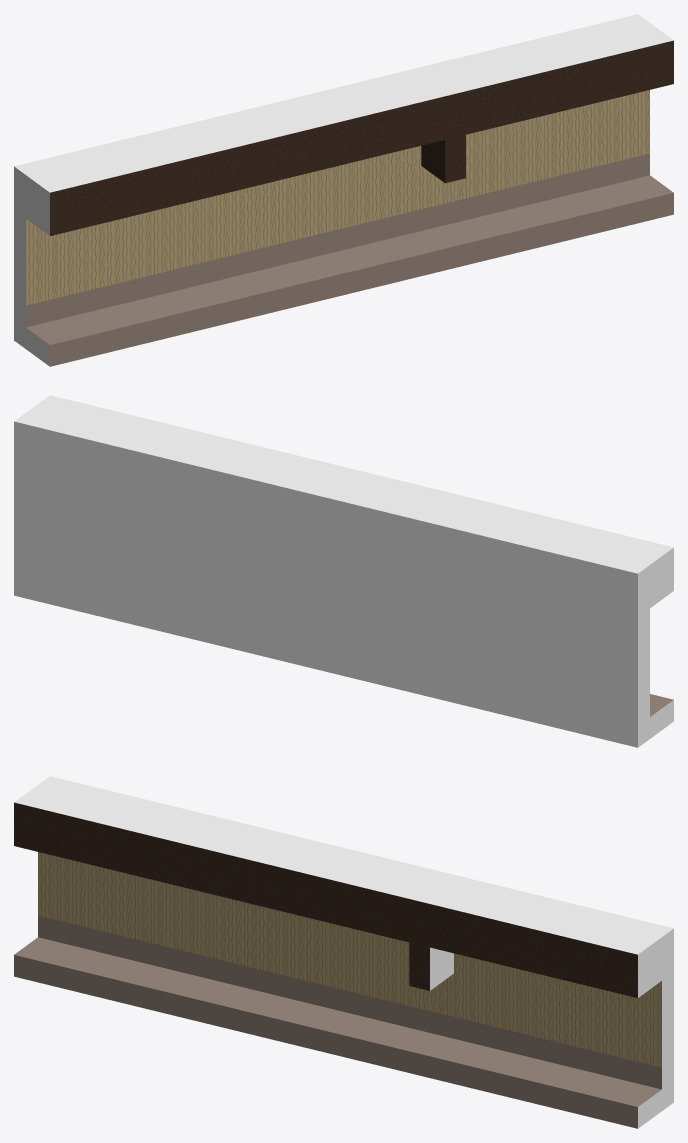
File: Lvl1.fbx
3 views of the same model, one above another, from view 1: azimuth 30°, elevation 25°; view 2: azimuth 150°, elevation 25°; view 3: azimuth 330°, elevation 25° (orthographic).
Visible parts, largest first — view 1: Model; view 2: Model; view 3: Model.
Part boxes in pixels (x1=…): Model: x1=14, y1=14, x2=673, y2=366; Model: x1=14, y1=395, x2=673, y2=747; Model: x1=14, y1=776, x2=673, y2=1128.
Bounding box in the file's own units: 360 × 96 × 36.
